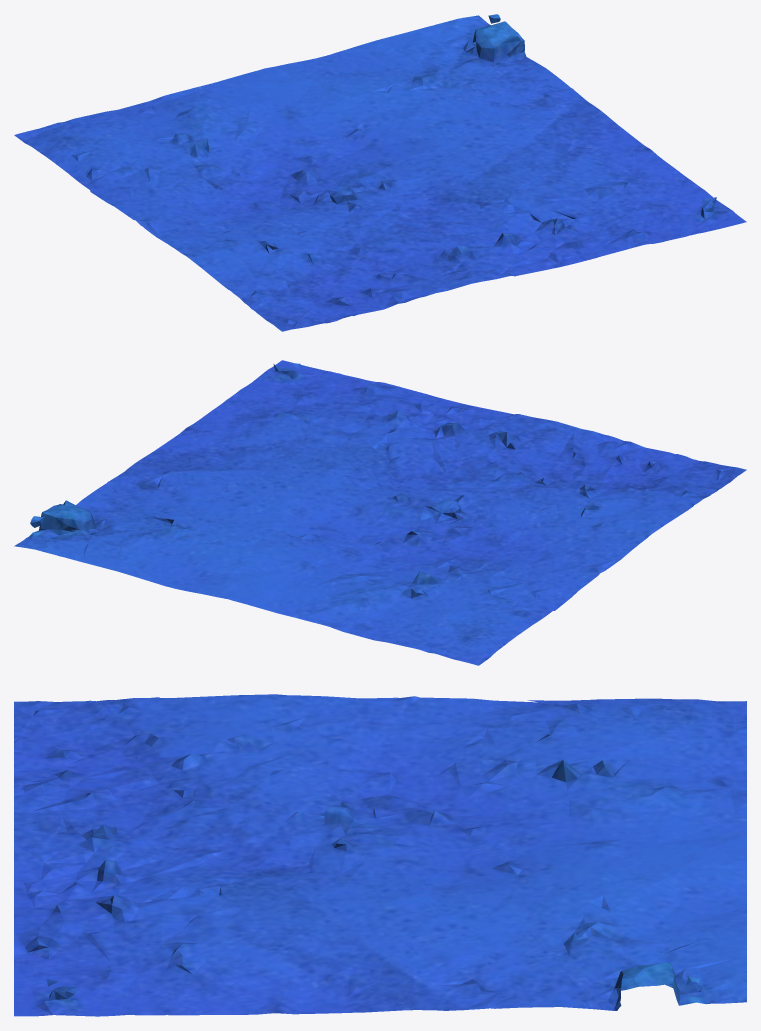
3 views of the same model, one above another, from view 1: azimuth 30°, elevation 25°; view 2: azimuth 150°, elevation 25°; view 3: azimuth 270°, elevation 25° (orthographic). The views are drawn at different scales.
Size of the model in its own units: 13.06 by 0.6967 by 13.06.
2 materials, 2 textured.
